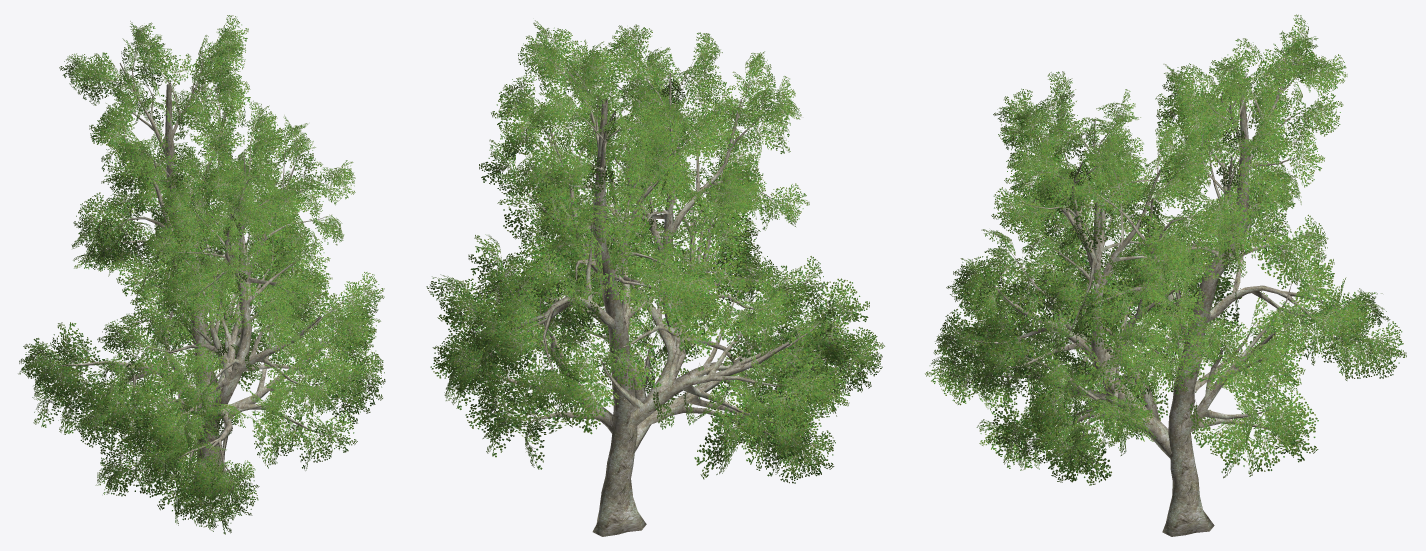
The model's file is defaultmaple.glb.
The picture shows the model from 3 angles, left to right: view 1: azimuth 30°, elevation 25°; view 2: azimuth 150°, elevation 25°; view 3: azimuth 270°, elevation 25°; orthographic projection. The views are drawn at different scales.
Parts seen in each view (by area): view 1: DefaultMaple; view 2: DefaultMaple; view 3: DefaultMaple.
Part boxes in pixels (box(x1,y1,x2,y2)): DefaultMaple: box(18, 15, 385, 534); DefaultMaple: box(426, 20, 884, 536); DefaultMaple: box(925, 14, 1406, 536).
Size of the model in its own units: 19.6 by 24.41 by 22.02.
Materials: 4 (4 with a texture image).
